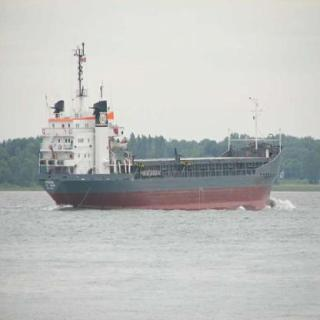Bulk Carrier: (32, 60, 286, 209)
